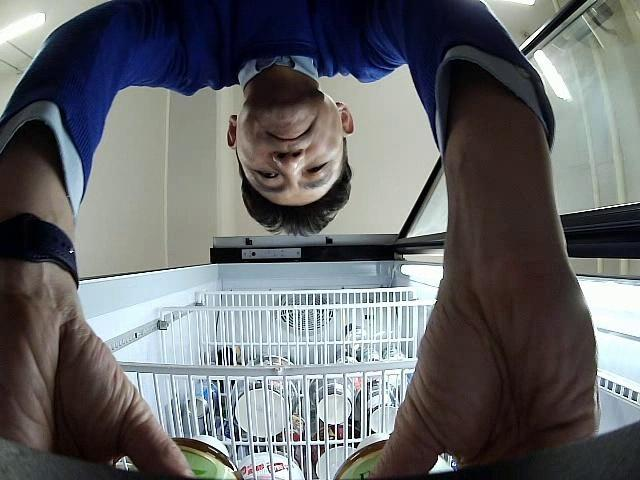19_17cha: (173, 433, 242, 479), (331, 431, 392, 478)
